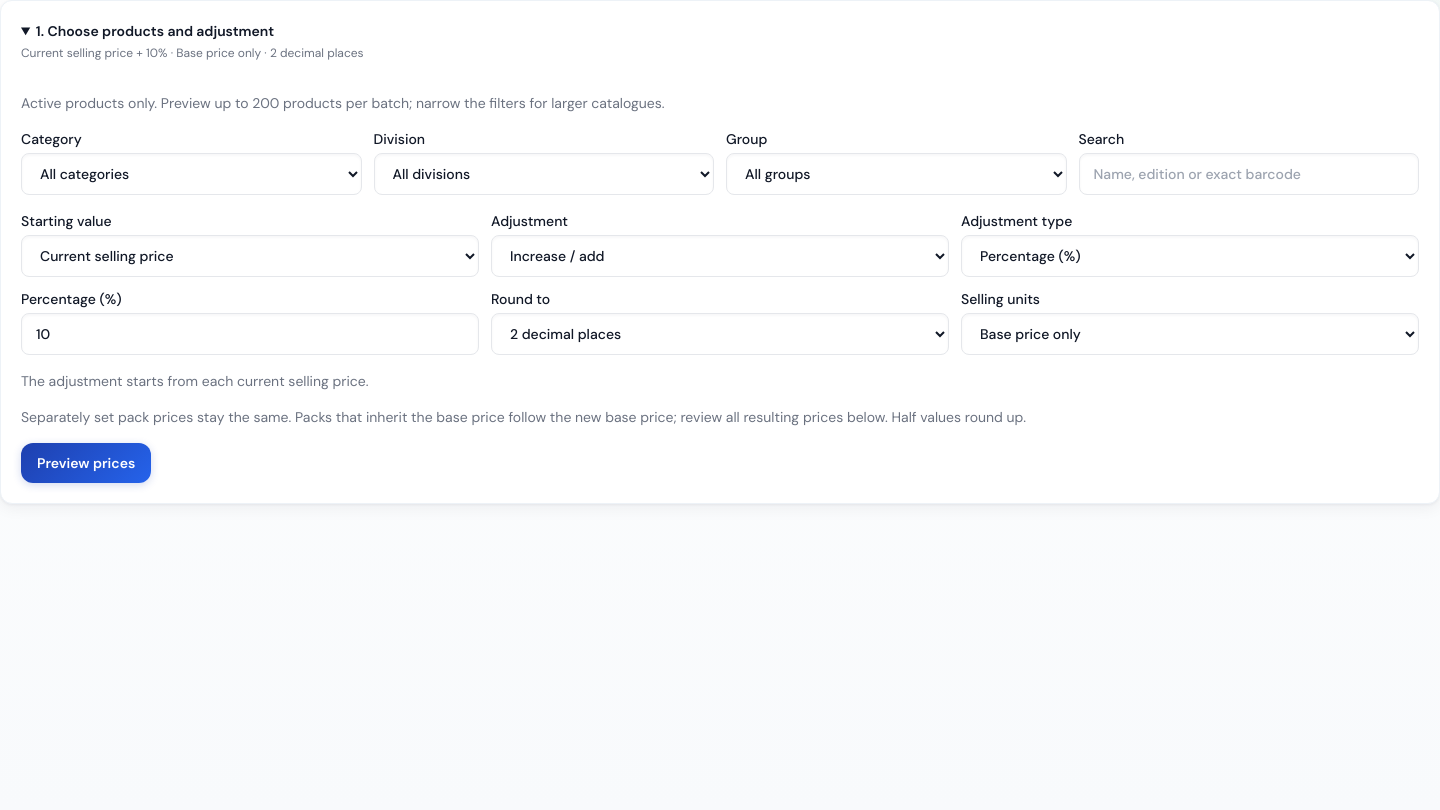
Test: requires a reason, selected warnings acknowledgement and explicit confirmation before applying
Click the button "Preview prices". click: (86,463)
box: [21, 443, 151, 483]
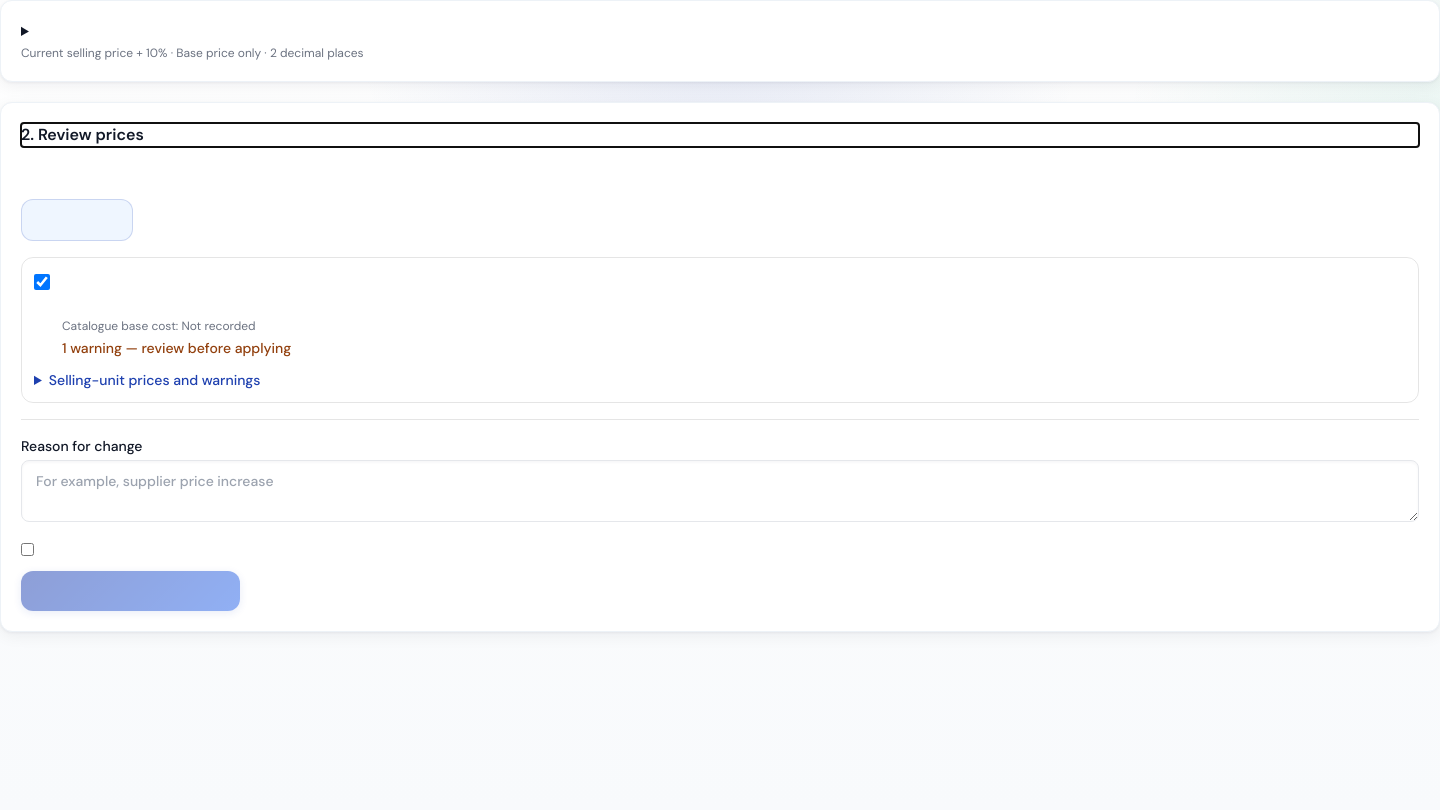
Now the button "Review update for 1 product" is disabled, box [21, 571, 240, 611]
Type "Supplier increase" into the text box labelled "Reason for change". click: (720,491)
box: [21, 460, 1419, 522]
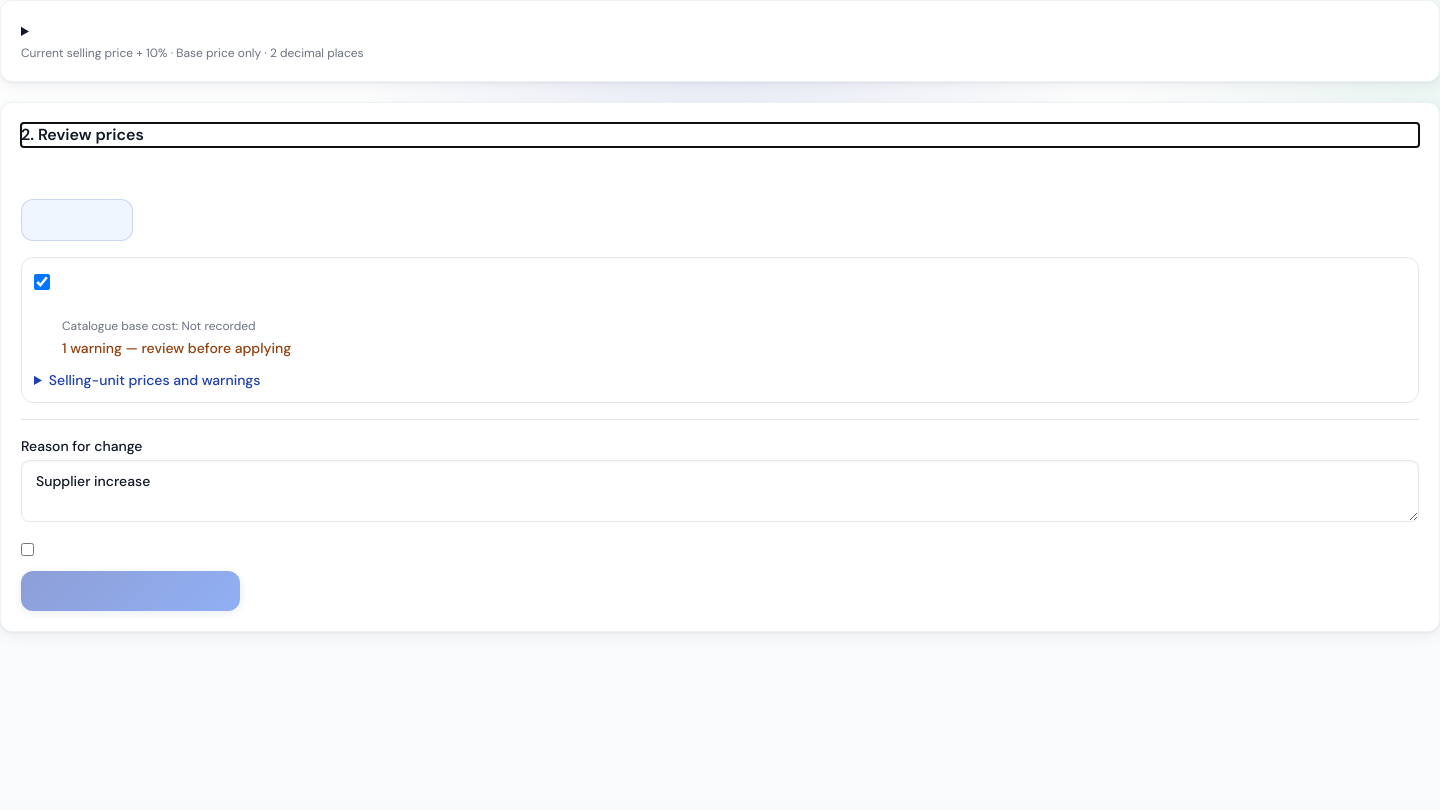
Now the button "Review update for 1 product" is disabled, box [21, 571, 240, 611]
Click the checkbox labelled "I have reviewed". click: (28,550)
box: [21, 543, 34, 556]
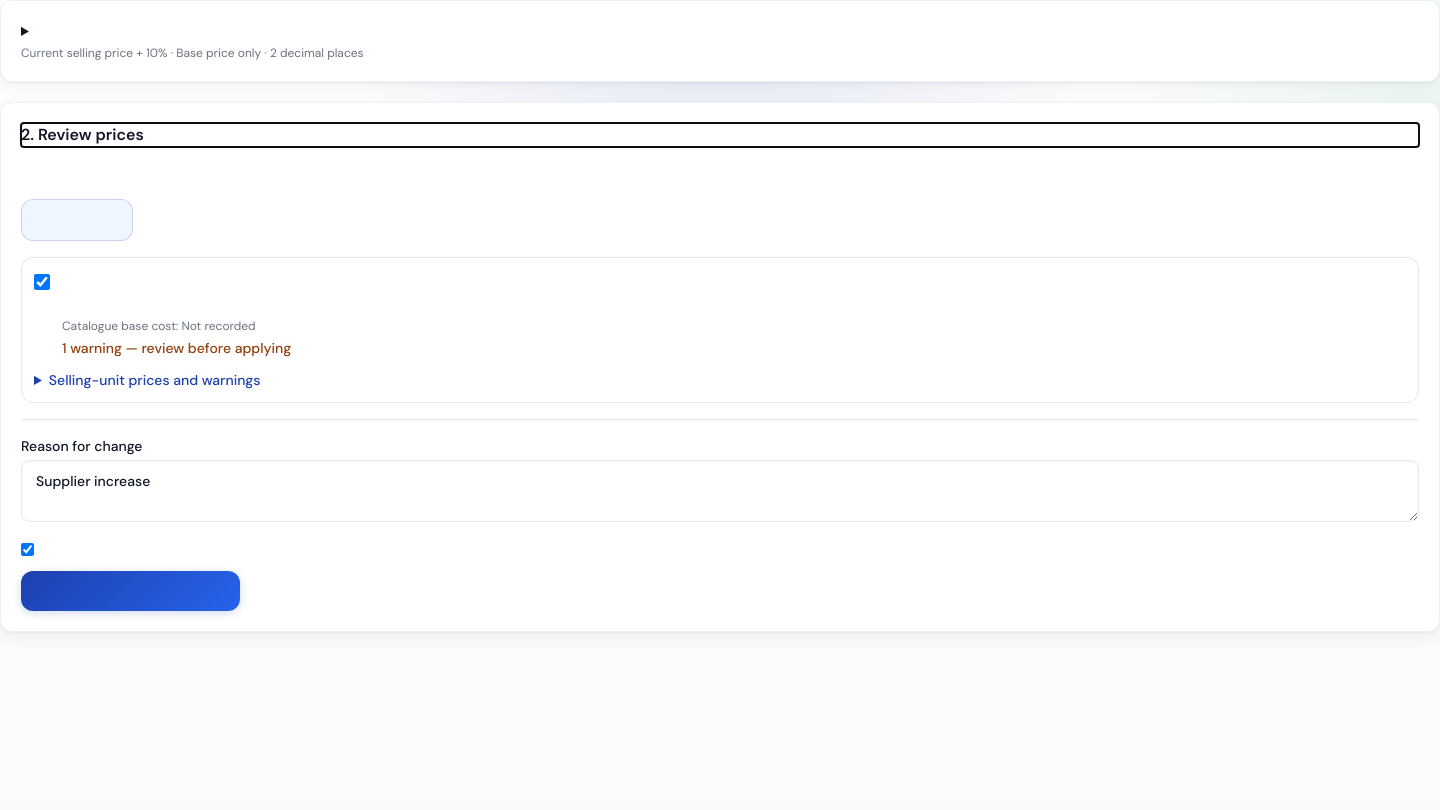
Click the button "Review update for 1 product". click: (131,591)
box: [21, 571, 240, 611]
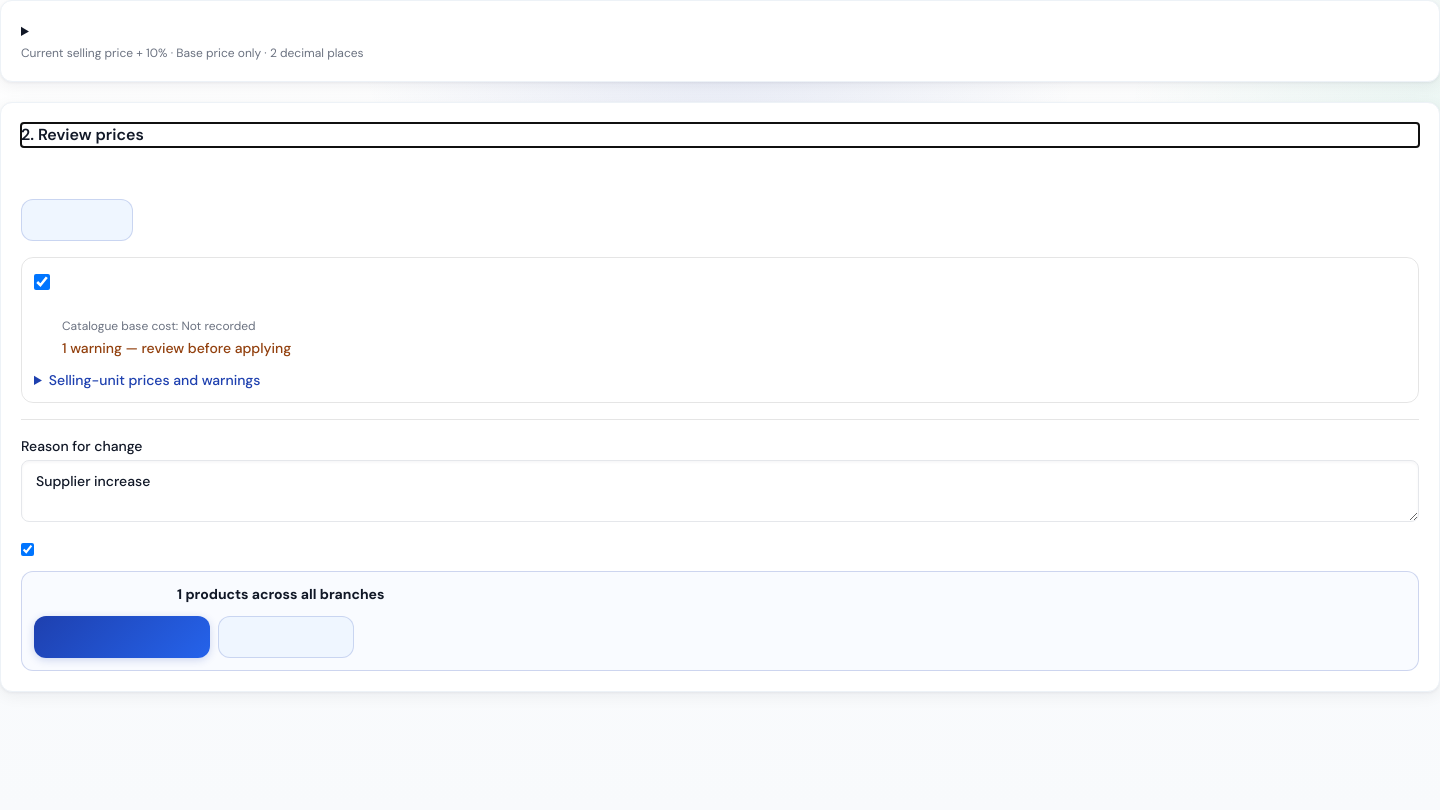
Click the button "Confirm price update". click: (122,637)
box: [34, 616, 210, 658]
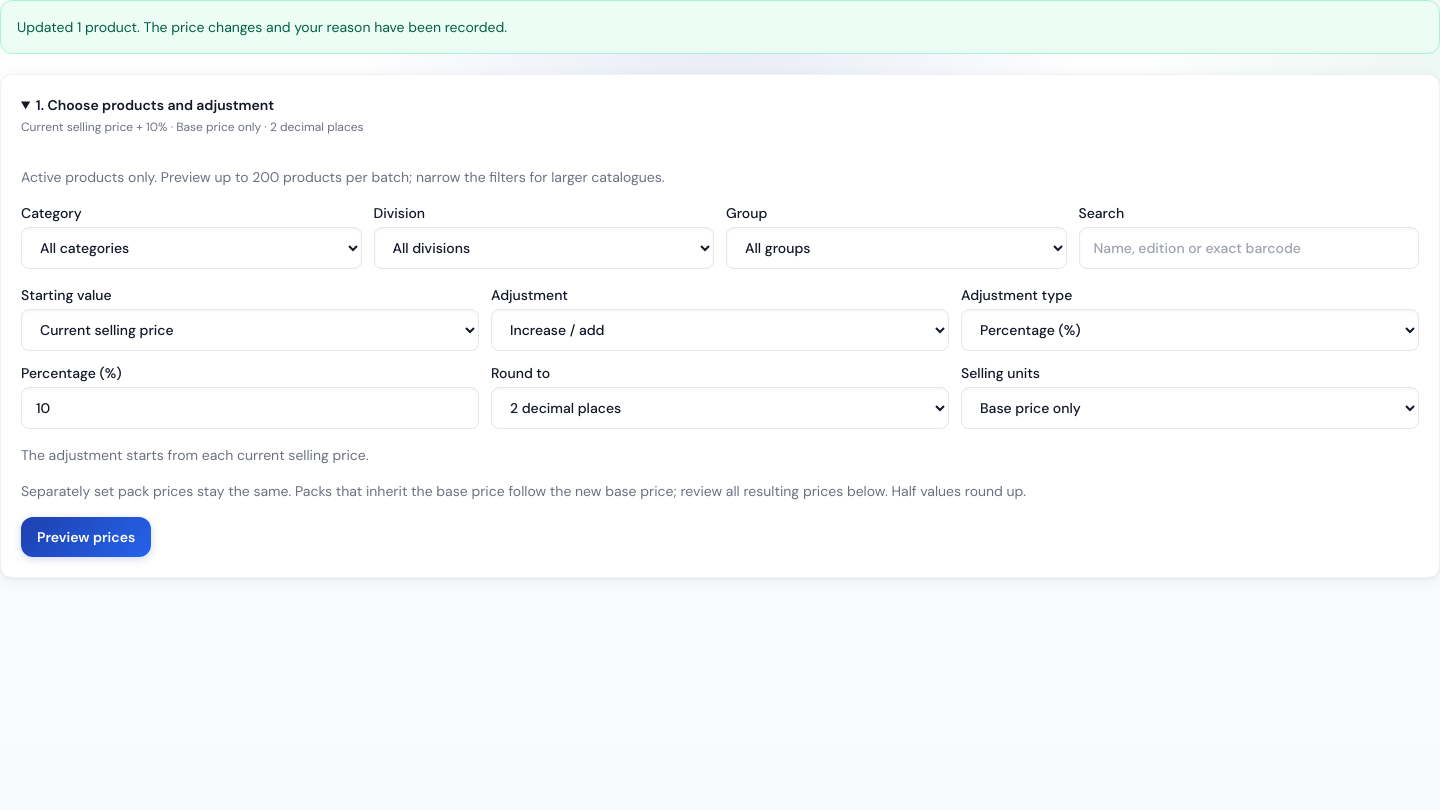
Now the message "Updated 1 product. The price changes and your reason have been recorded." is shown, box [0, 0, 1439, 54]
Now the text "Example book" is gone
